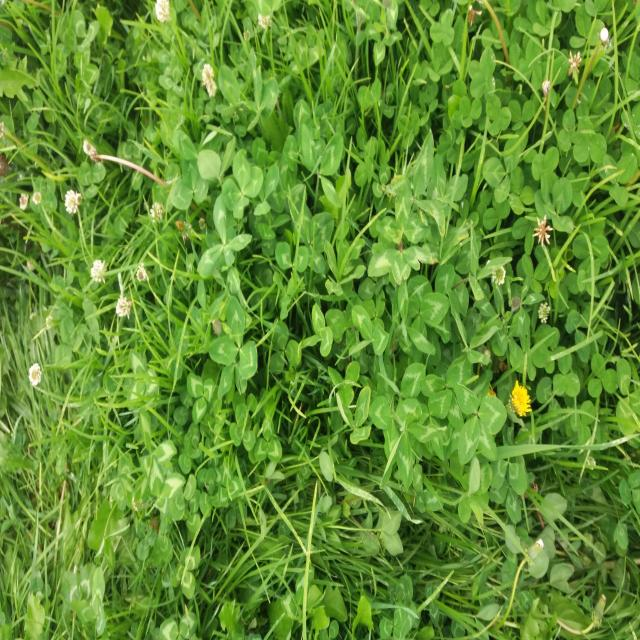Four Leaf Clover: (379, 404, 446, 491), (196, 215, 252, 279), (221, 150, 263, 210)
